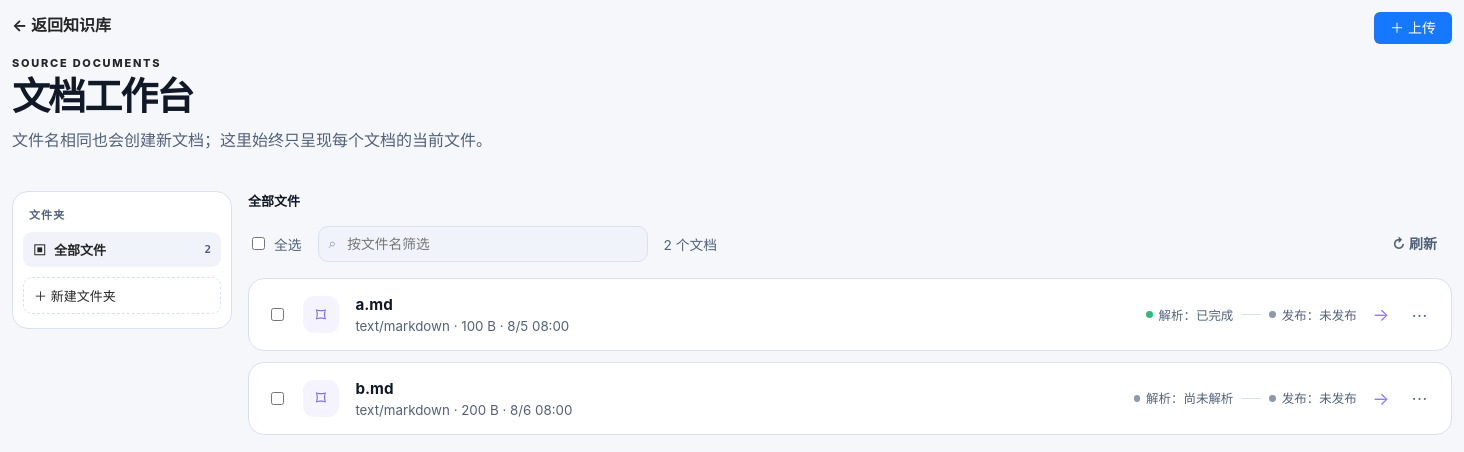
Test: DocumentsView › 全选 checkbox 可勾选所有文档
This screenshot has width=1464, height=452.
What coordinates should you click on to do the following:
click the checkbox with test id "select-all"
I would click on:
 (258, 244)
Its box is 252,237 -> 265,250.
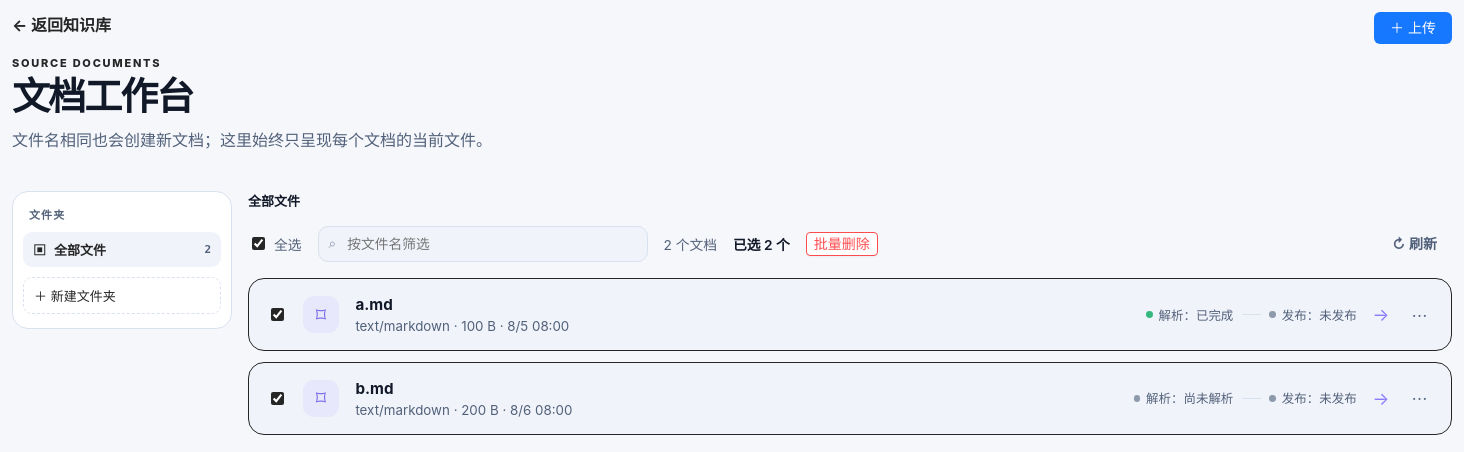
Now the checkbox with test id "select-doc-1" is checked, box 271,308 -> 284,321
Now the checkbox with test id "select-doc-2" is checked, box 271,392 -> 284,405
Now the text "已选 2 个" is shown, box 733,234 -> 790,254
